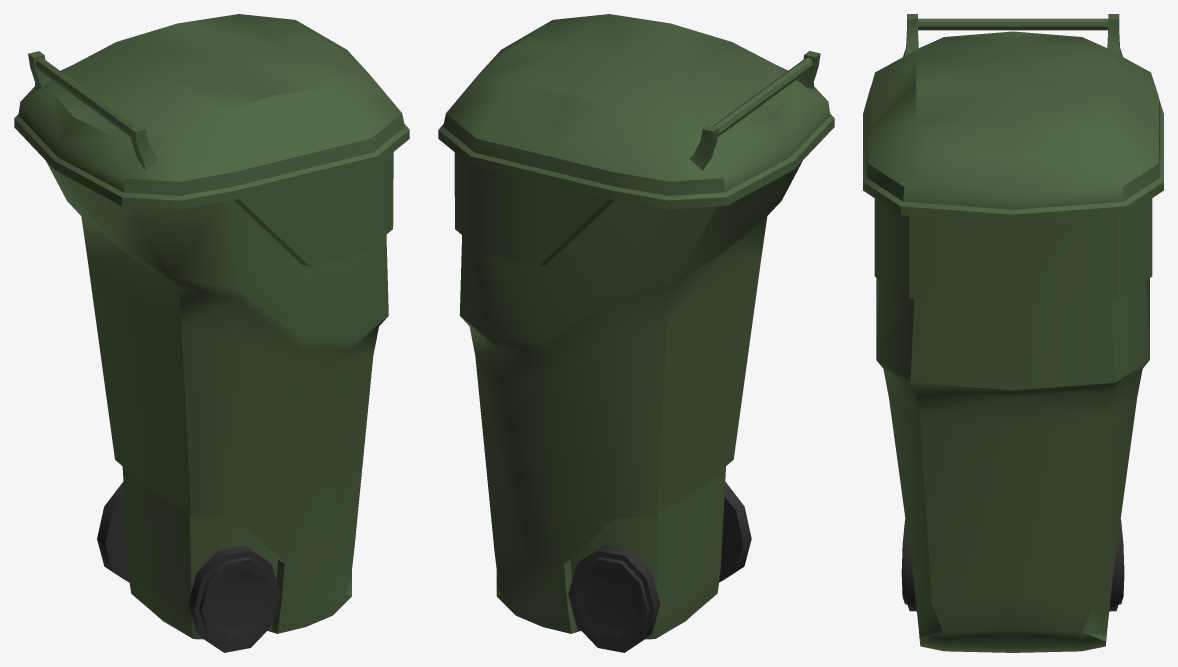
File: vuilnisbak.glb
3 views of the same model, side by side, from view 1: azimuth 30°, elevation 25°; view 2: azimuth 150°, elevation 25°; view 3: azimuth 270°, elevation 25° (orthographic).
Size of the model in its own units: 0.36 by 0.6 by 0.3.
